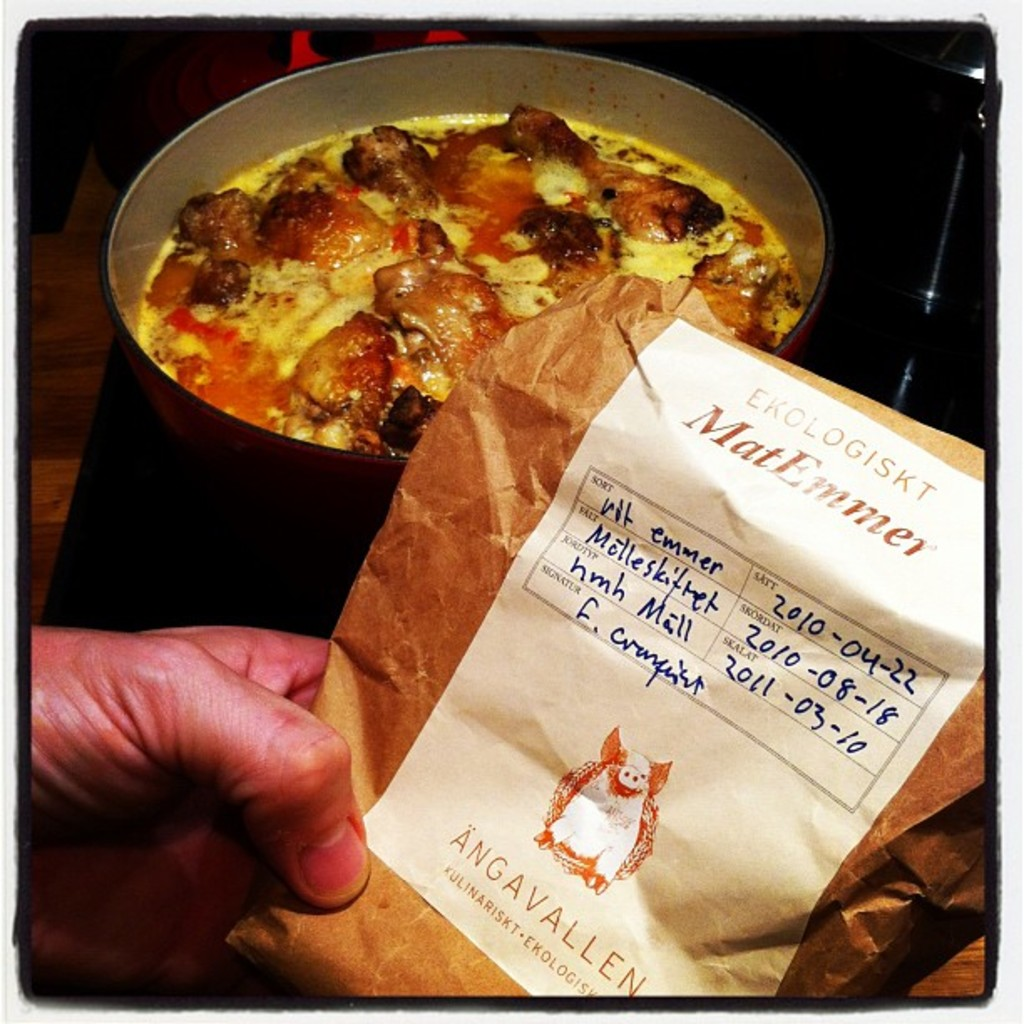Pizza: (138, 90, 796, 470)
